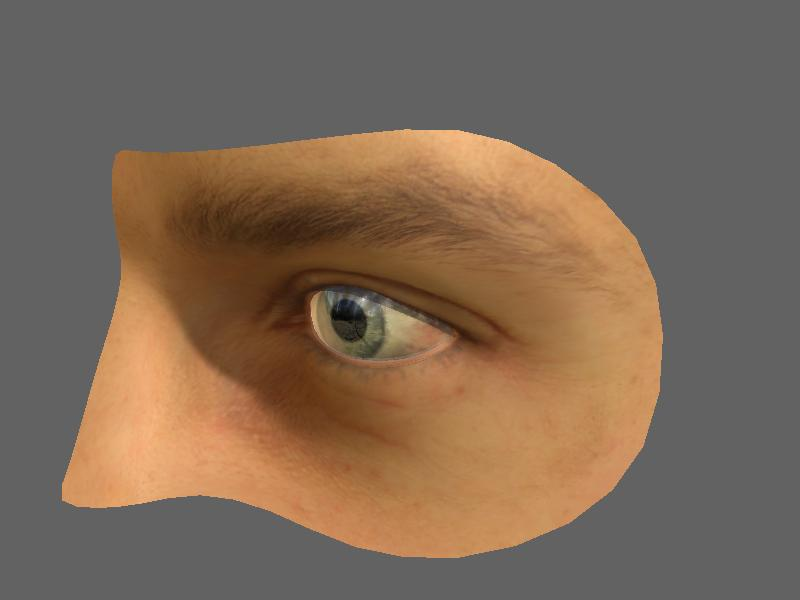iris: (316, 287, 387, 361)
